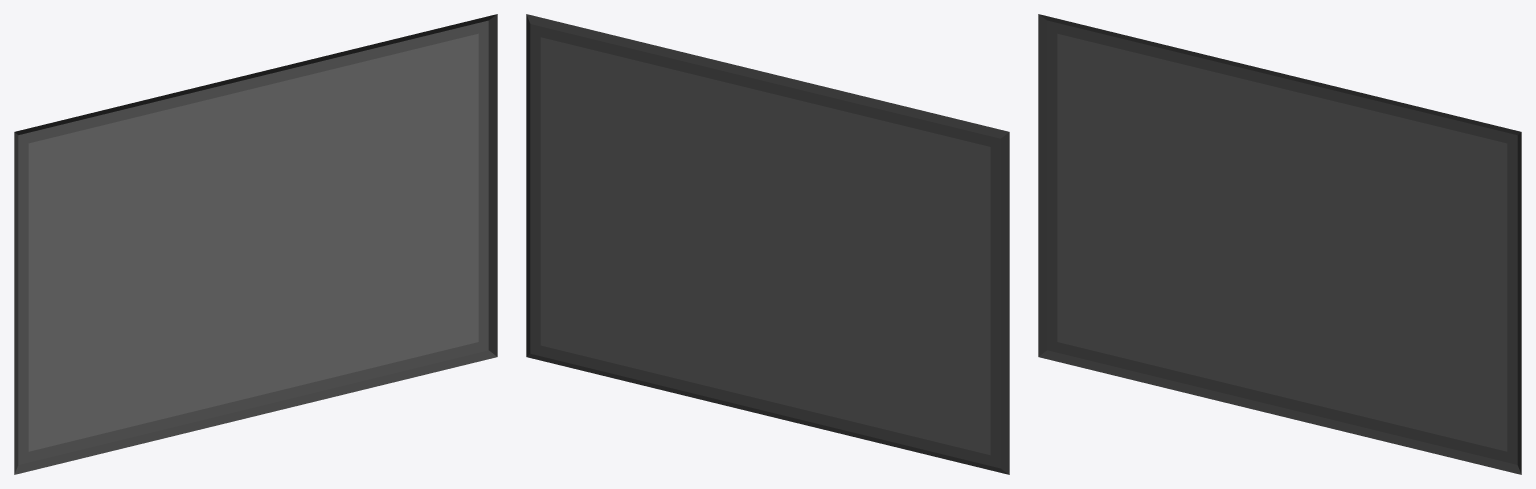
File: rug.glb
3 renders of one model, left to right at view 1: azimuth 30°, elevation 25°; view 2: azimuth 150°, elevation 25°; view 3: azimuth 330°, elevation 25°, orthographic.
Parts seen in each view (by area): view 1: carpet_004; view 2: carpet_004; view 3: carpet_004.
Boxes of the visible parts, box(x1,y1,x2,y2) form: carpet_004: box(14, 14, 497, 474); carpet_004: box(526, 14, 1009, 474); carpet_004: box(1038, 14, 1521, 474).
Bounding box in the file's own units: 2.97 × 2.02 × 0.0254.
1 material, 1 textured.
